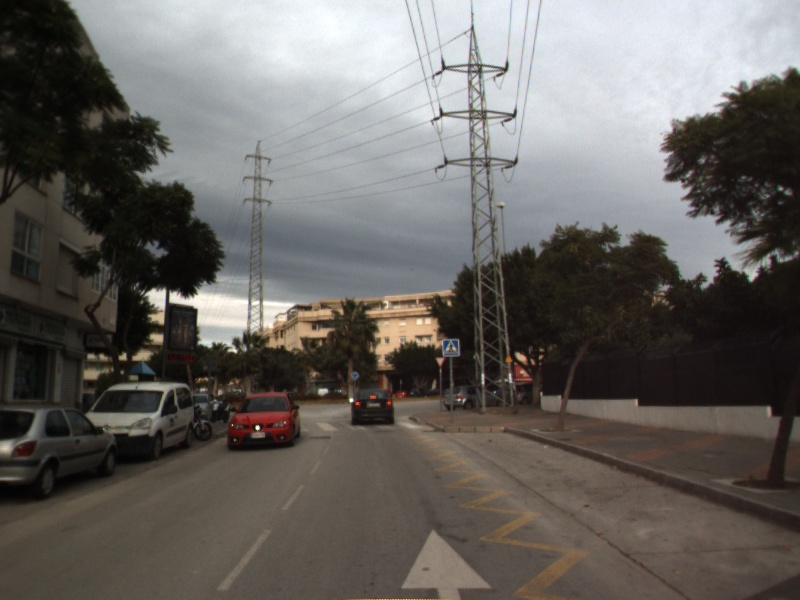STRAIGHT: (398, 525, 495, 600)
